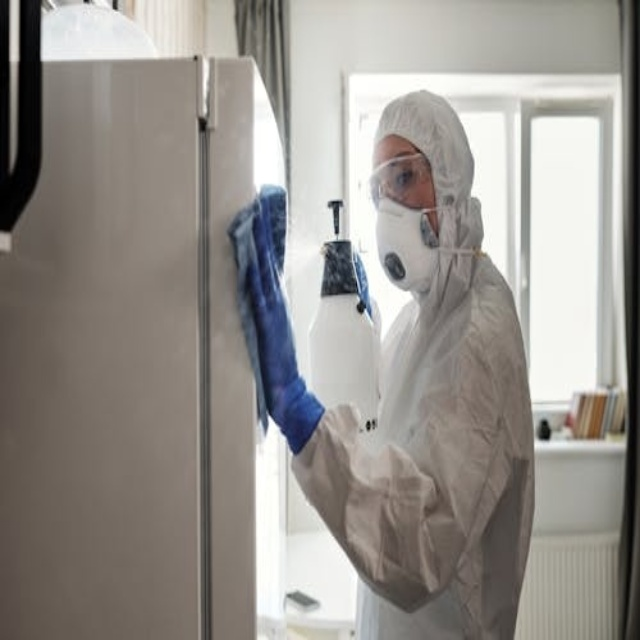Gafas: (366, 154, 441, 211)
Guantes: (237, 190, 328, 454)
Mascara: (376, 194, 443, 294)
